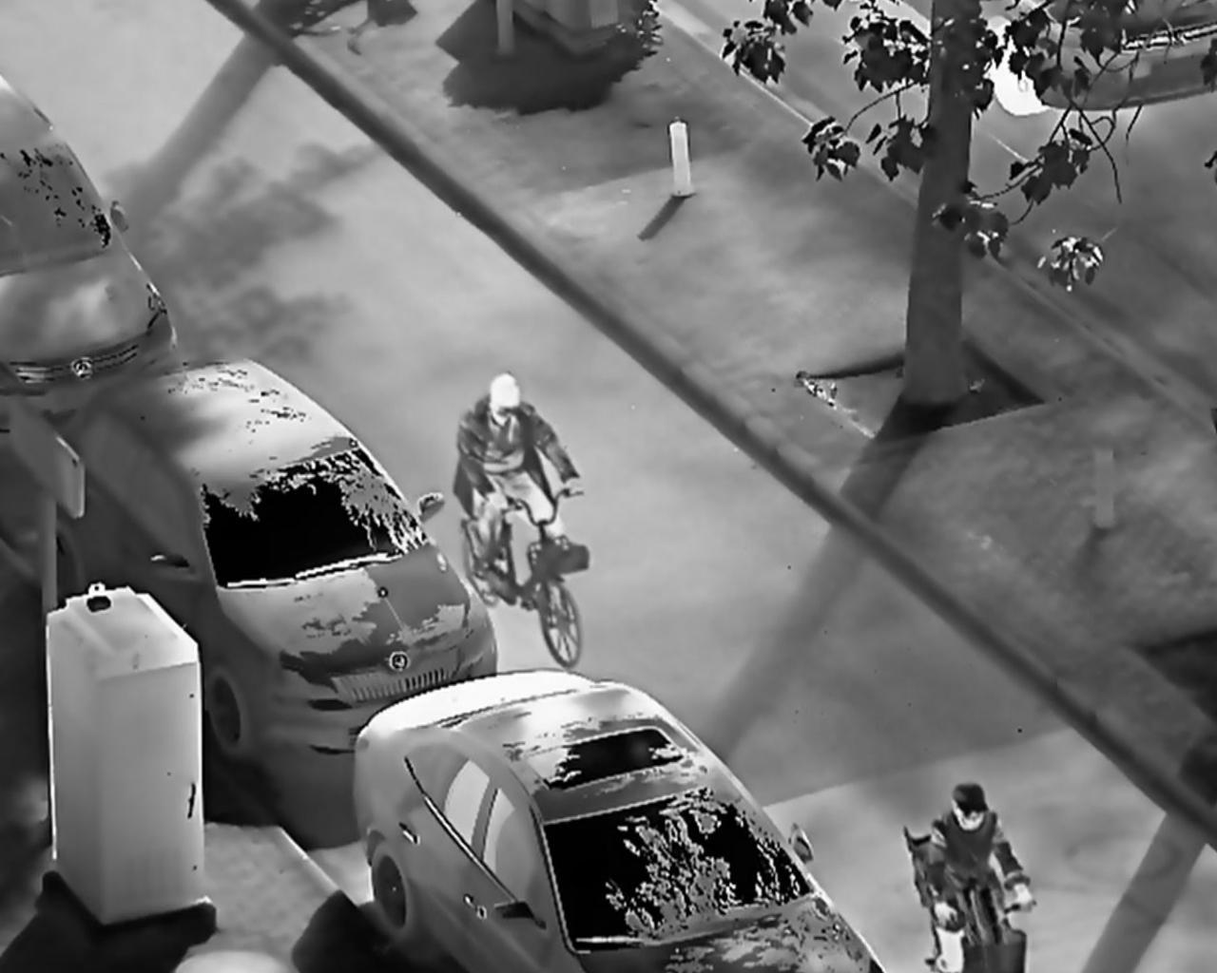person: (452, 372, 588, 612), (926, 781, 1039, 973)
